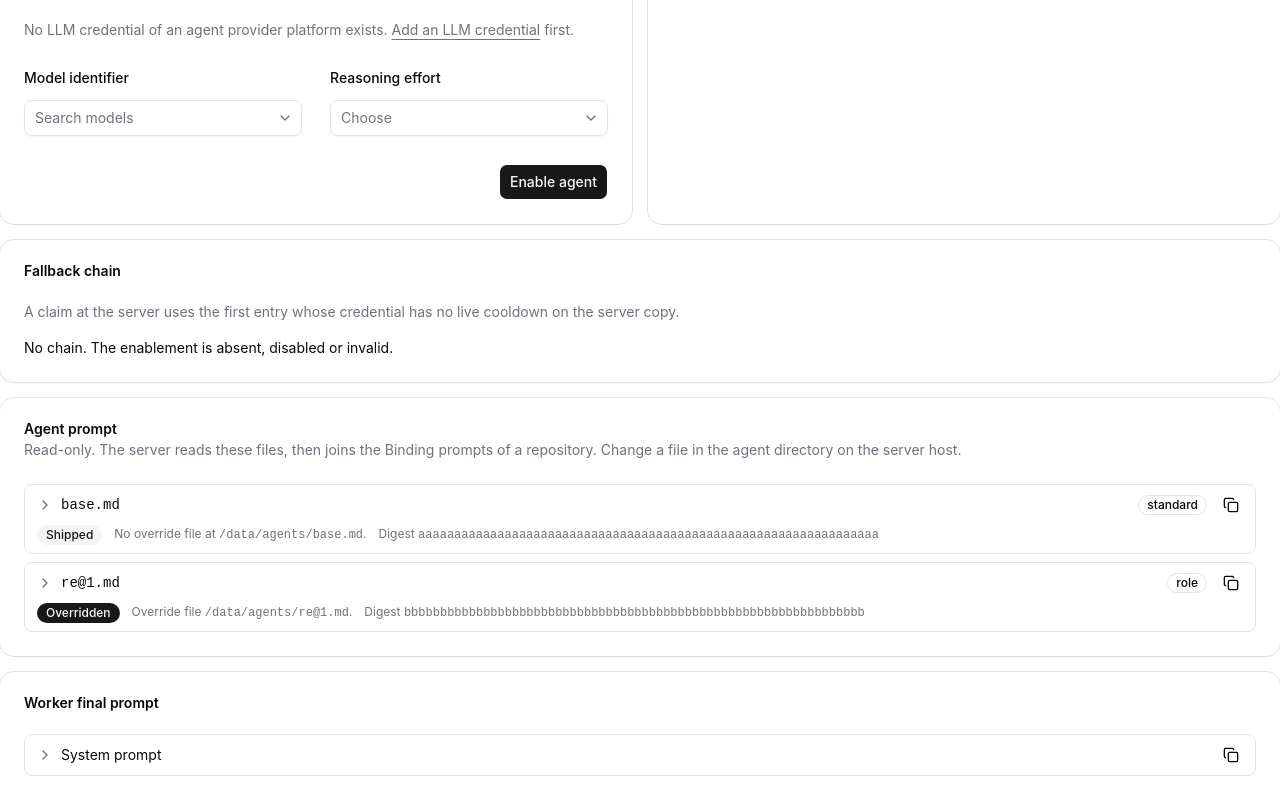
AgentScreen › collapses every prompt text and renders it as markdown on open
(page scrolled)
Check: the list named "Agent prompt" is shown, box [24,484,1256,632]
Check: the text "the reviewer" is not shown
Click the button "re@1.md role" at (90, 582), box [25,564,1207,600]
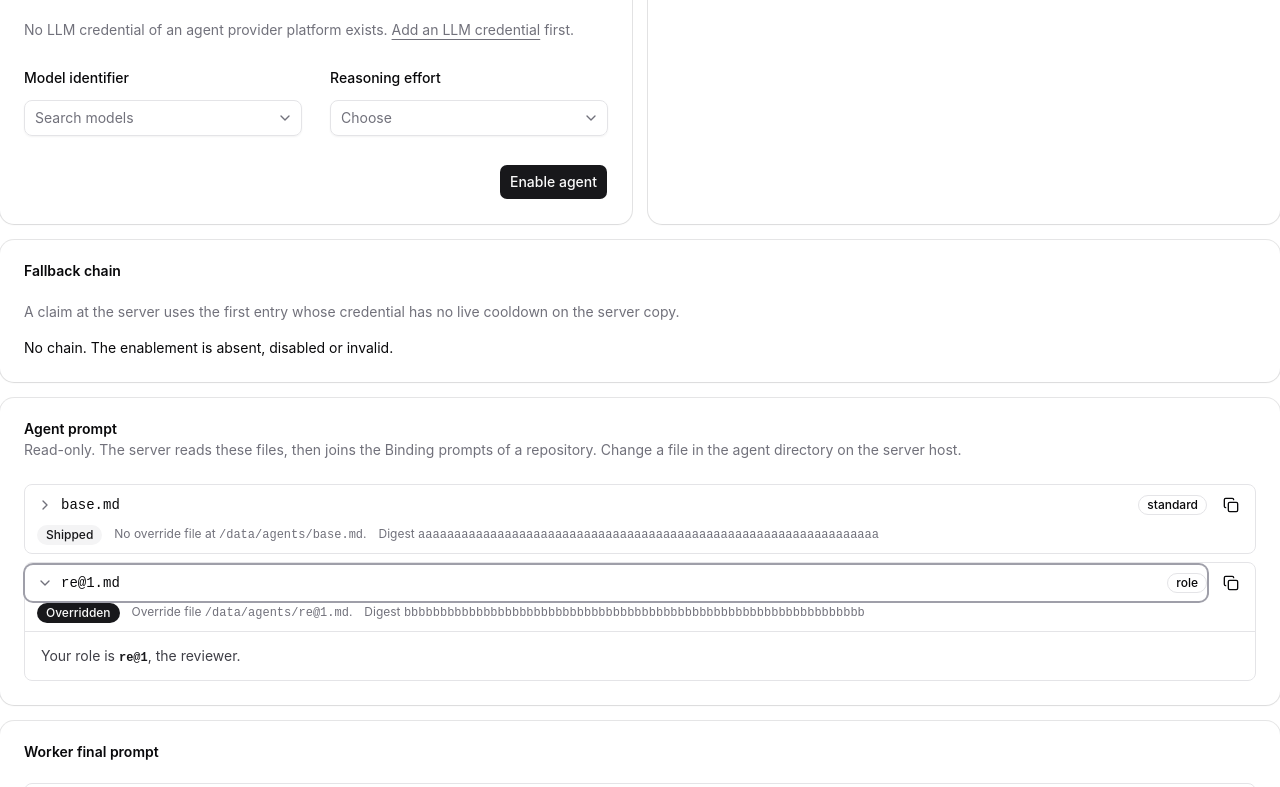
Check: the button "re@1.md role" is expanded, box [25,564,1207,600]
Check: the text "re@1" is shown, box [119,650,148,664]
Click the button "base.md standard" at (90, 504), box [25,486,1207,522]
(page scrolled)
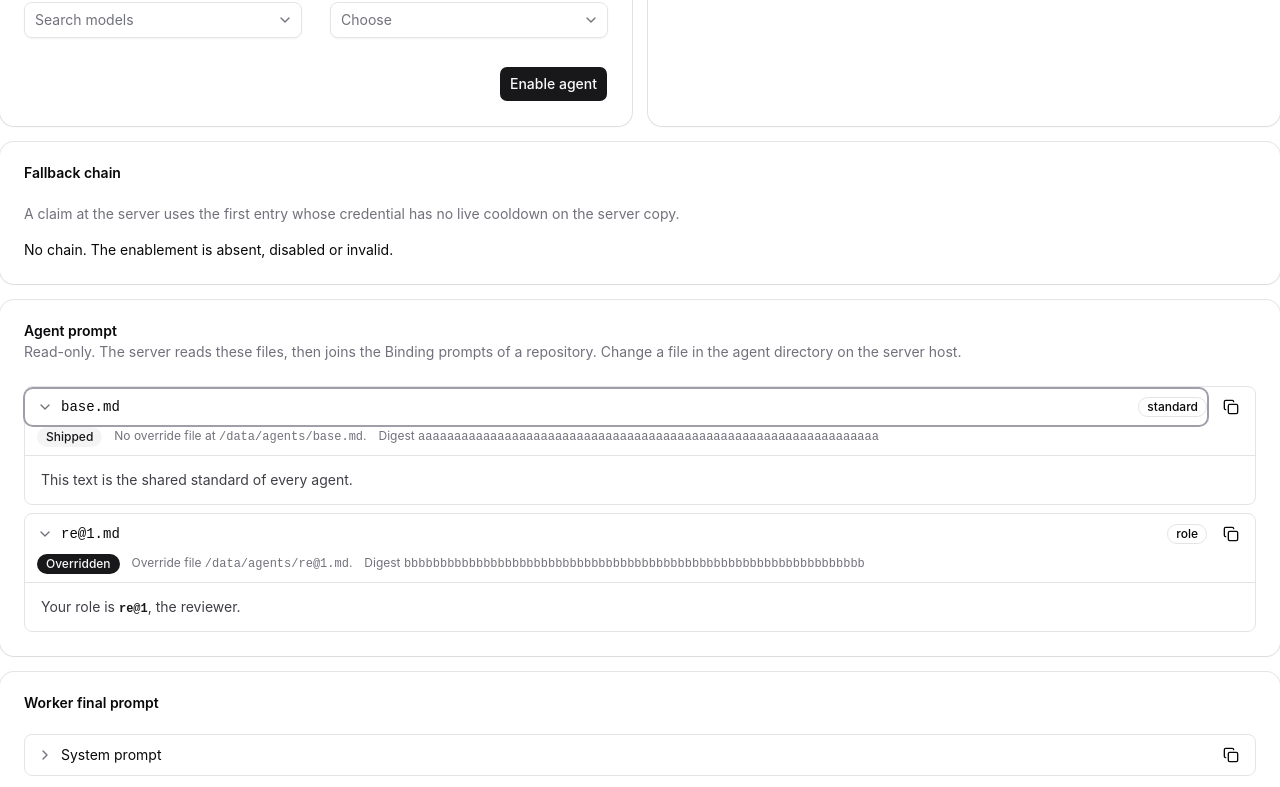
Check: the text "This text is the shared standard of every agent." is shown, box [41,470,353,488]
Click the button "System prompt" at (111, 755), box [25,737,1207,773]
(page scrolled)
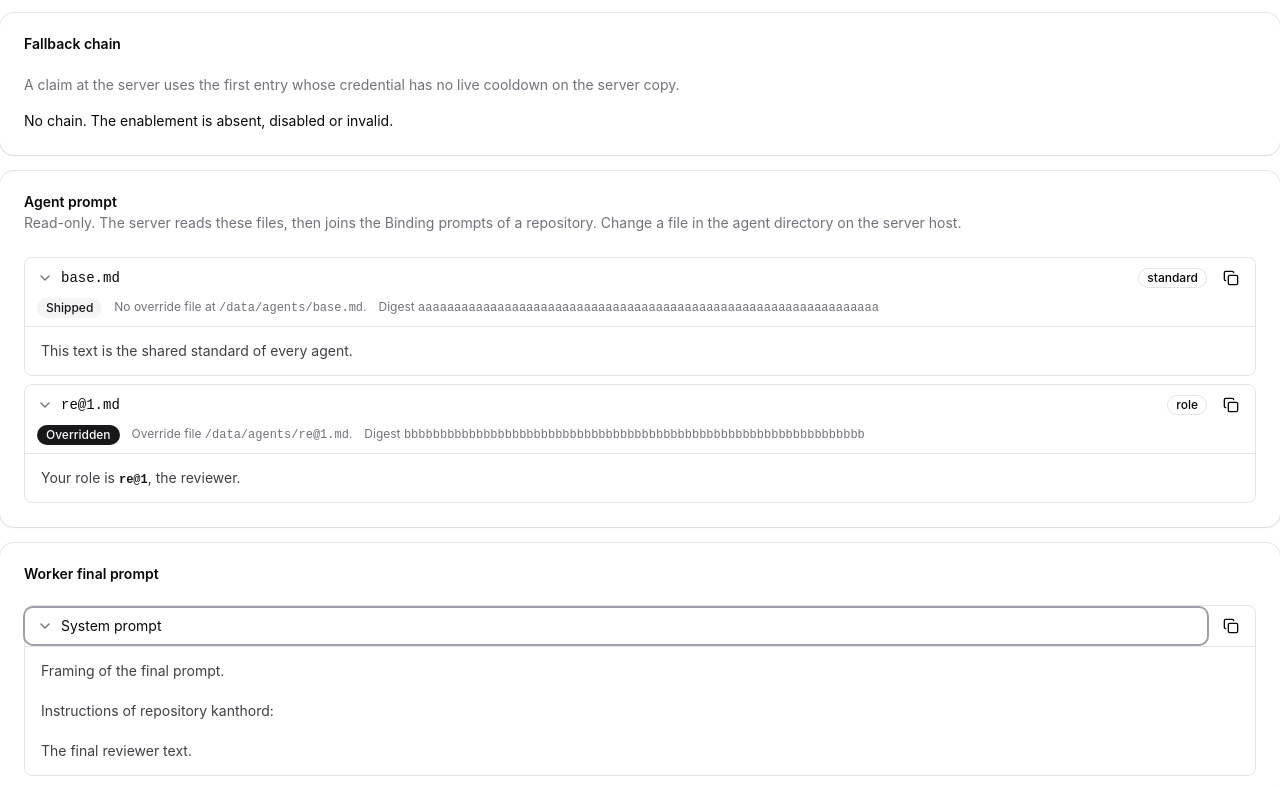
Check: the text "Framing of the final prompt." is shown, box [41,662,224,679]
Check: the text "The final reviewer text." is shown, box [41,742,192,759]
